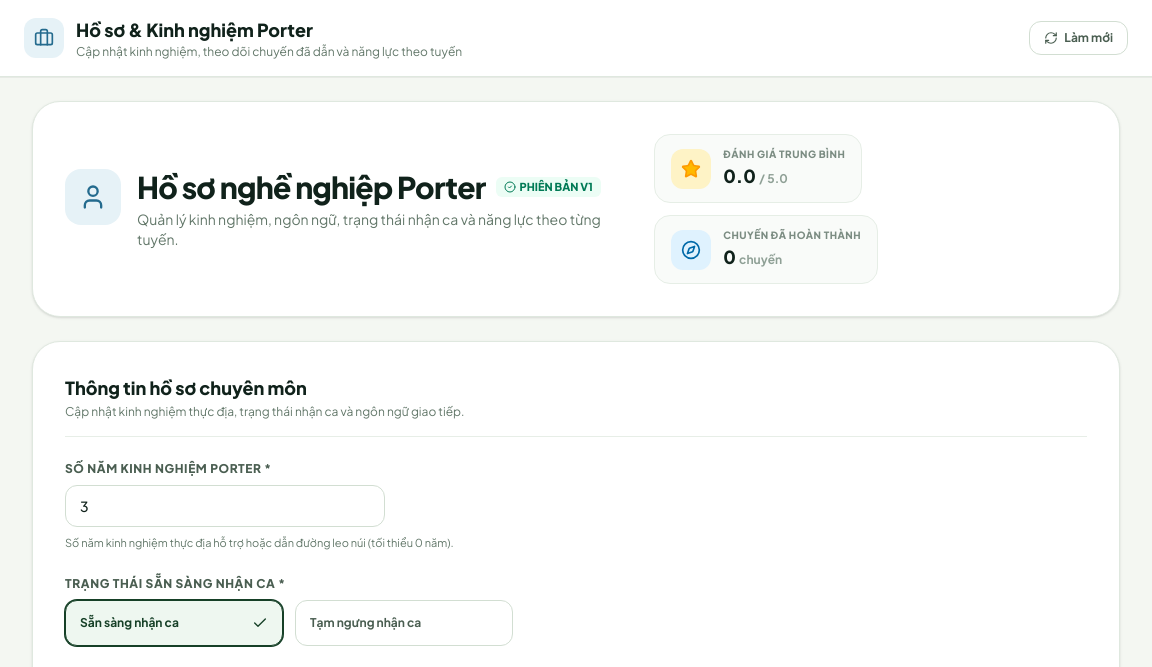
Test case: PorterProfilePage › saves profile and displays success message
Replace the text in the number field labelled "Số năm kinh nghiệm Porter *" with "4" at (225, 506), box top-left (65, 485), bottom-right (385, 527)
(page scrolled)
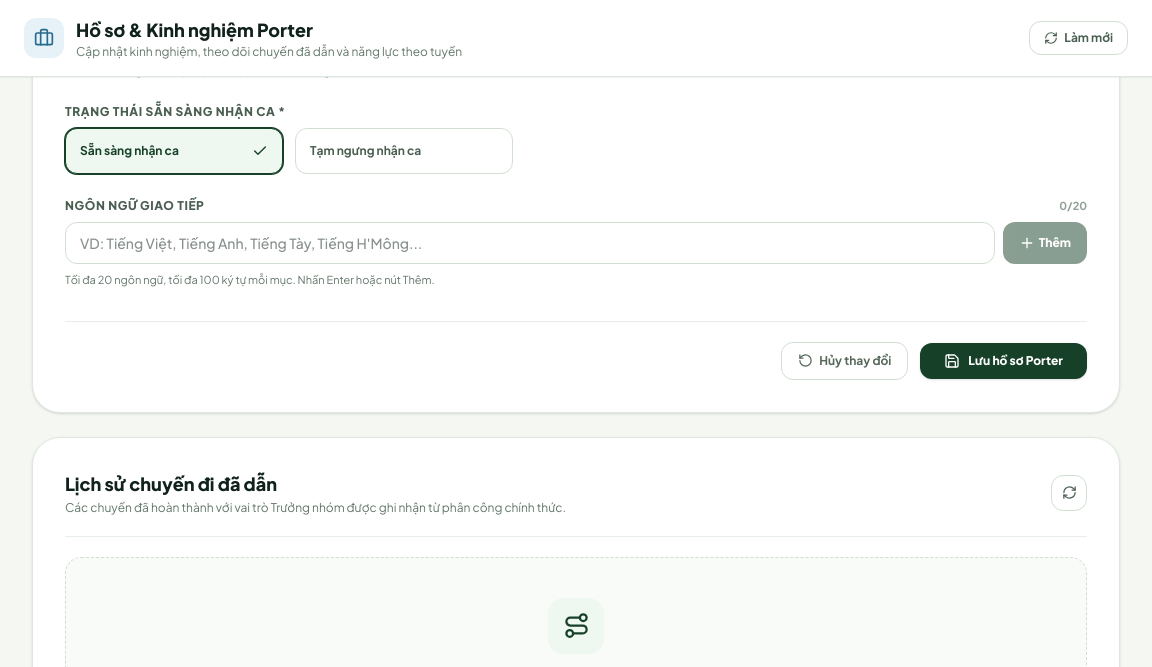
Click the button with test id "save-porter-profile-button" at (1004, 360), box top-left (920, 342), bottom-right (1087, 378)
(page scrolled)
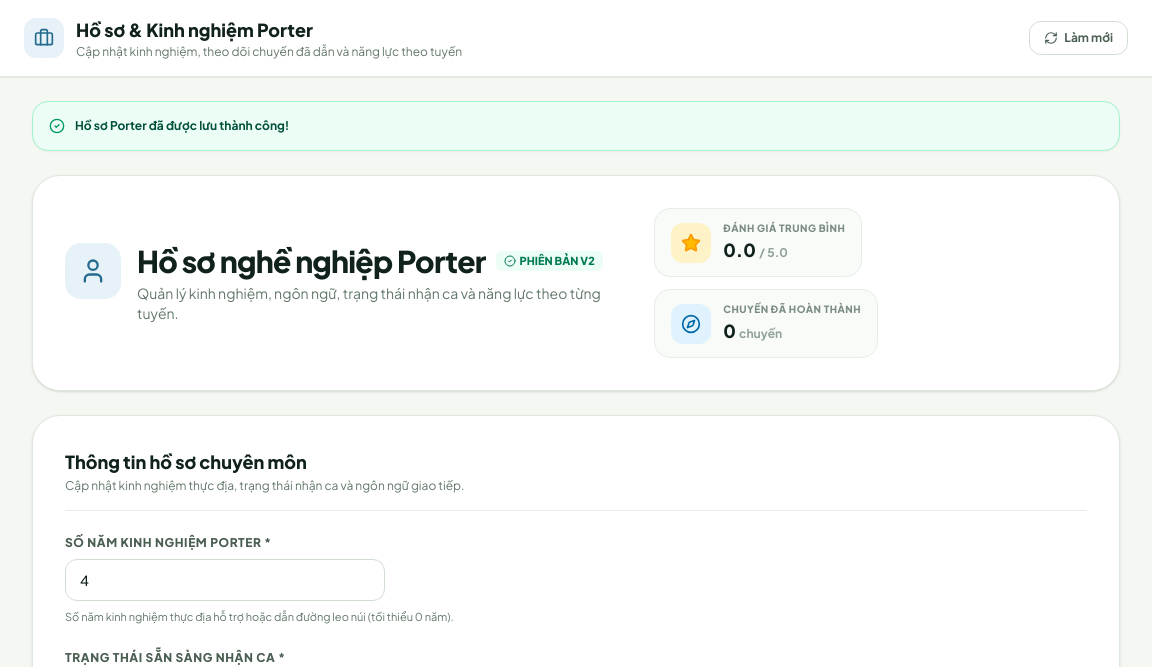
Result: the text "Hồ sơ Porter đã được lưu thành công!" is shown at top-left (75, 118), bottom-right (289, 134)
